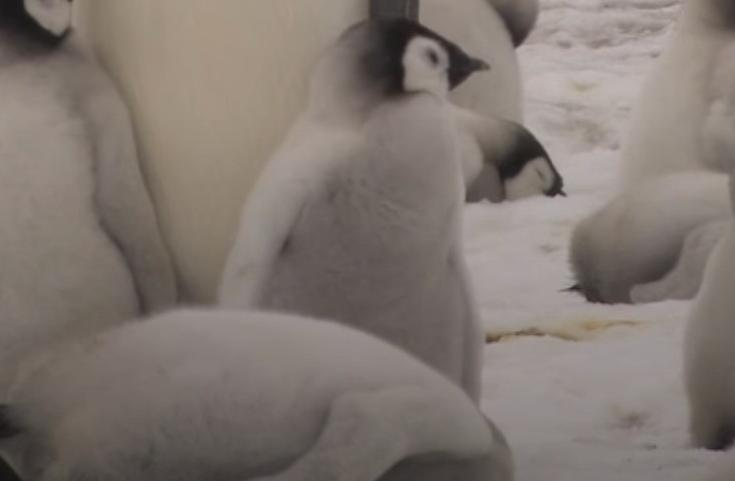Emperor Penguin: (0, 325, 38, 481)
